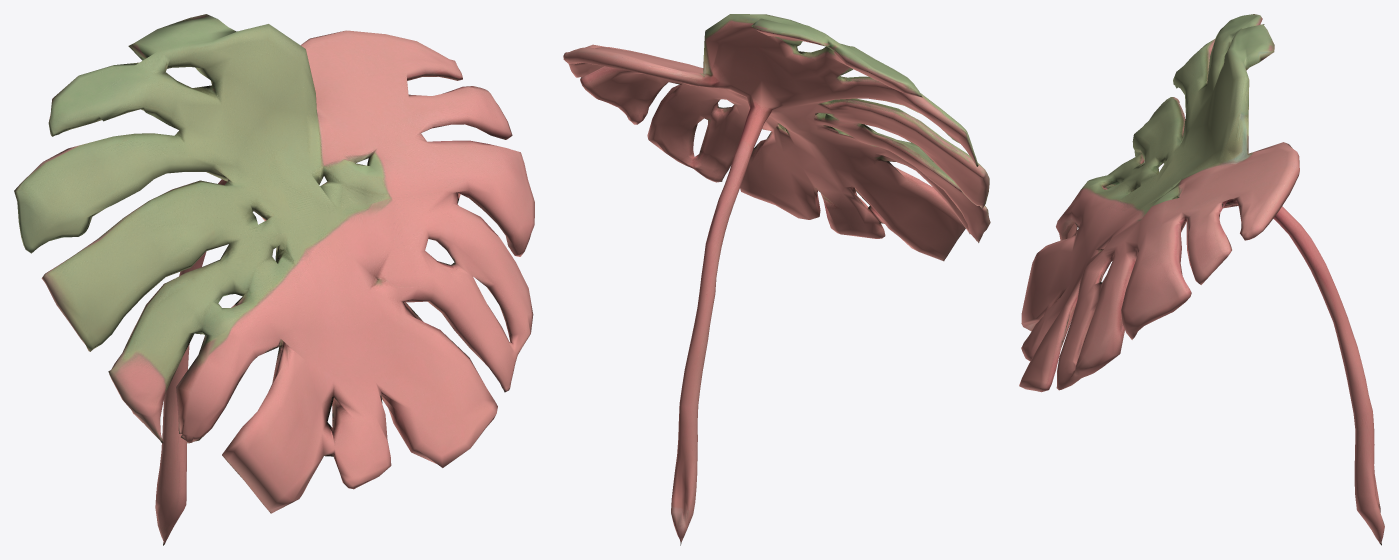
The model's file is mon_variegata_gold_v2.glb.
The picture shows the model from 3 angles, left to right: view 1: azimuth 30°, elevation 25°; view 2: azimuth 150°, elevation 25°; view 3: azimuth 270°, elevation 25°; orthographic projection. The views are drawn at different scales.
Visible parts, largest first — view 1: world; view 2: world; view 3: world.
Boxes of the visible parts, x1=… form: world: x1=14, y1=14, x2=534, y2=545; world: x1=563, y1=14, x2=990, y2=545; world: x1=1019, y1=14, x2=1384, y2=545.
Bounding box in the file's own units: 1.75 × 2 × 1.36.
Materials: 1 (1 with a texture image).
